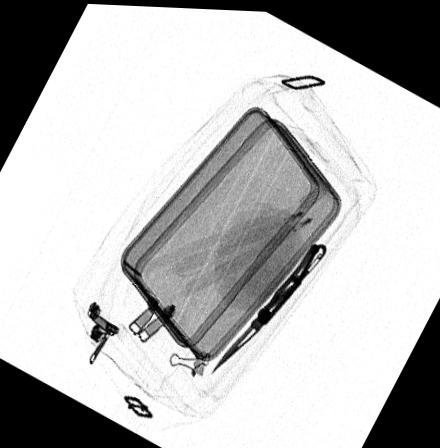Knife: (208, 240, 327, 372)
